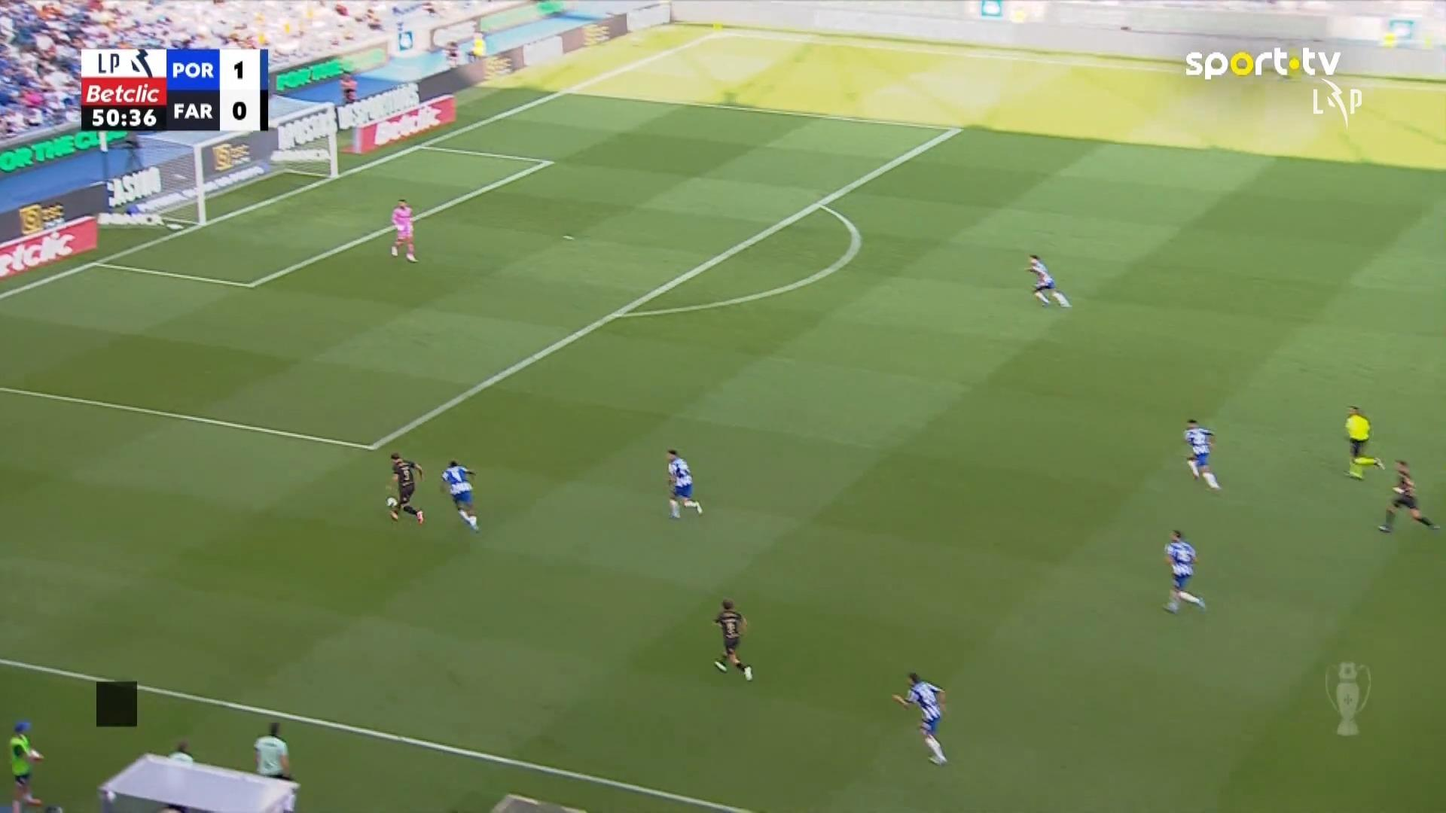ball: (386, 496, 397, 508)
goalkeeper: (1342, 404, 1384, 479), (389, 198, 417, 262)
player: (891, 671, 948, 765), (1377, 458, 1439, 533), (1161, 528, 1207, 614), (712, 598, 753, 681), (384, 451, 425, 525), (440, 458, 480, 532), (1182, 418, 1220, 489), (665, 448, 703, 519), (1025, 253, 1072, 308)
